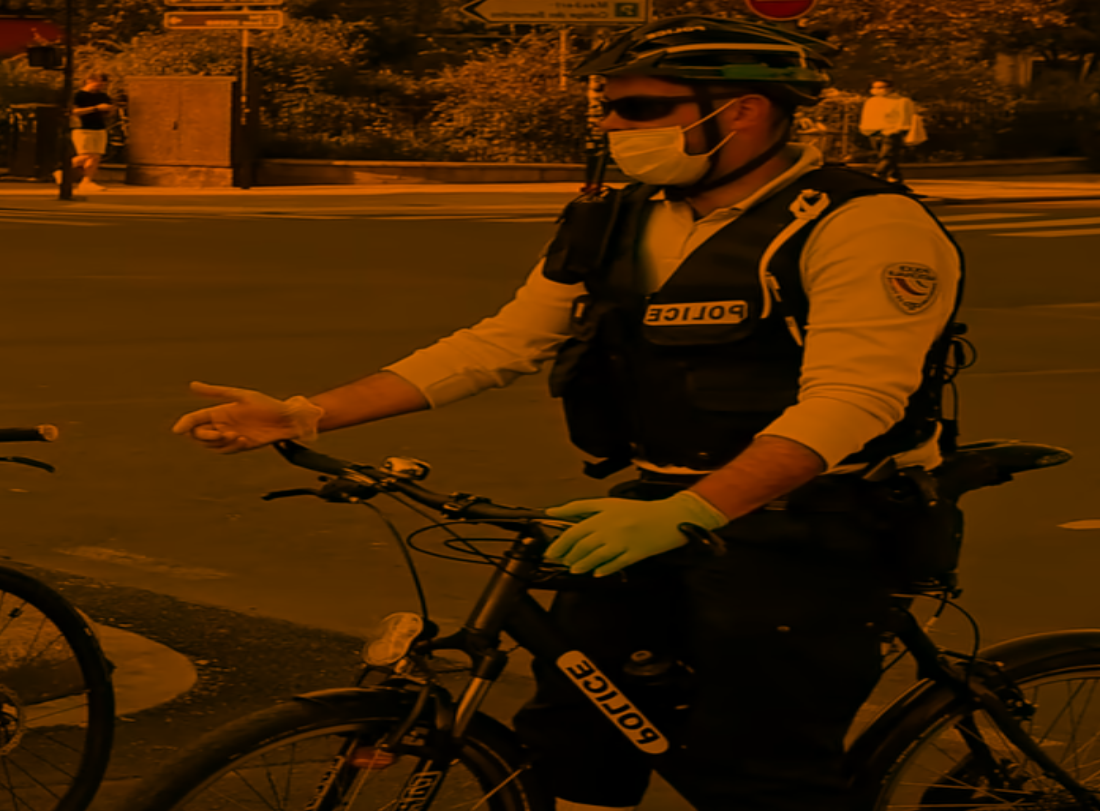mask_weared_incorrect: (587, 22, 815, 196)
